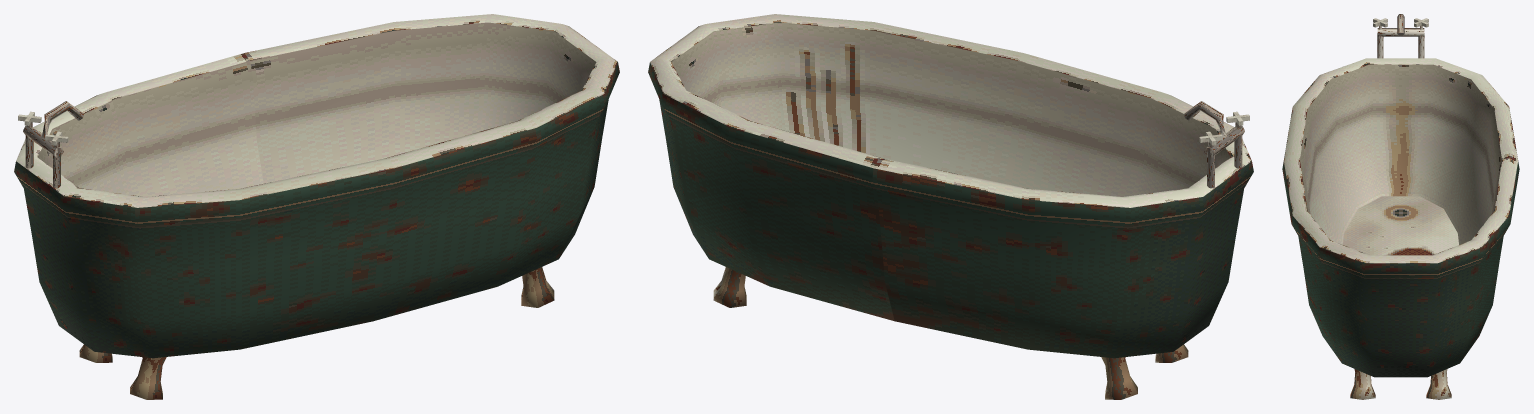
Rendered from bathtub.glb.
3 renders of one model, left to right at view 1: azimuth 30°, elevation 25°; view 2: azimuth 150°, elevation 25°; view 3: azimuth 270°, elevation 25°, orthographic. The views are drawn at different scales.
Parts seen in each view (by area): view 1: bathtub; view 2: bathtub; view 3: bathtub.
Part boxes in pixels (x1,y1,x2,y2): bathtub: (14,14,619,399); bathtub: (648,14,1253,399); bathtub: (1282,14,1519,399).
Bounding box in the file's own units: 1.67 × 0.8273 × 0.81.
Materials: 1 (1 with a texture image).
